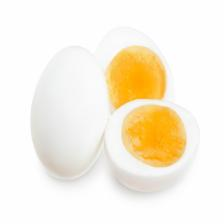egg: (30, 45, 110, 181), (103, 97, 199, 193), (92, 25, 176, 113)
